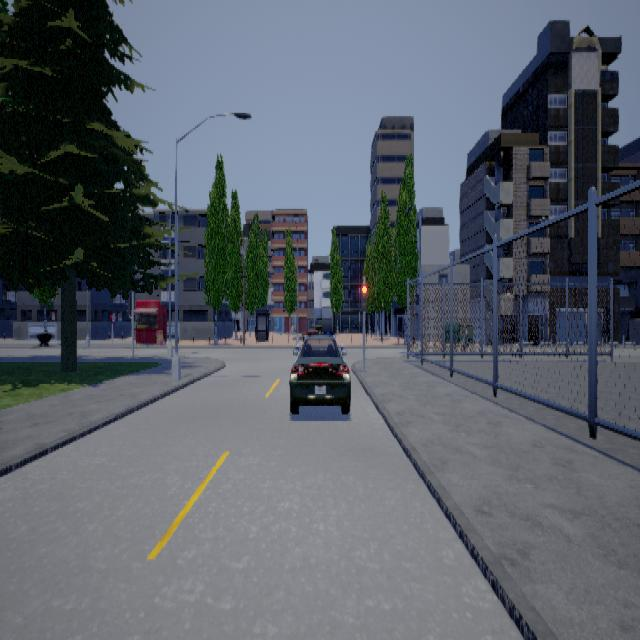red_light: (360, 278, 366, 315)
vehicle: (288, 330, 350, 413)
